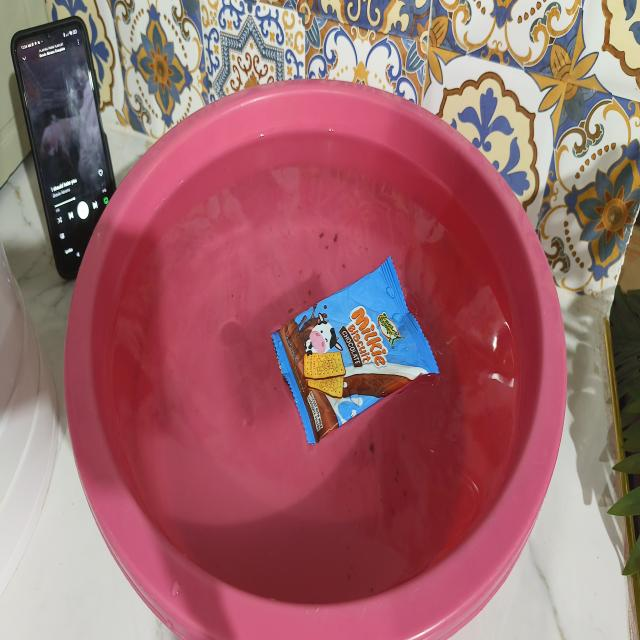Plastic Wrapper: (271, 257, 439, 444)
